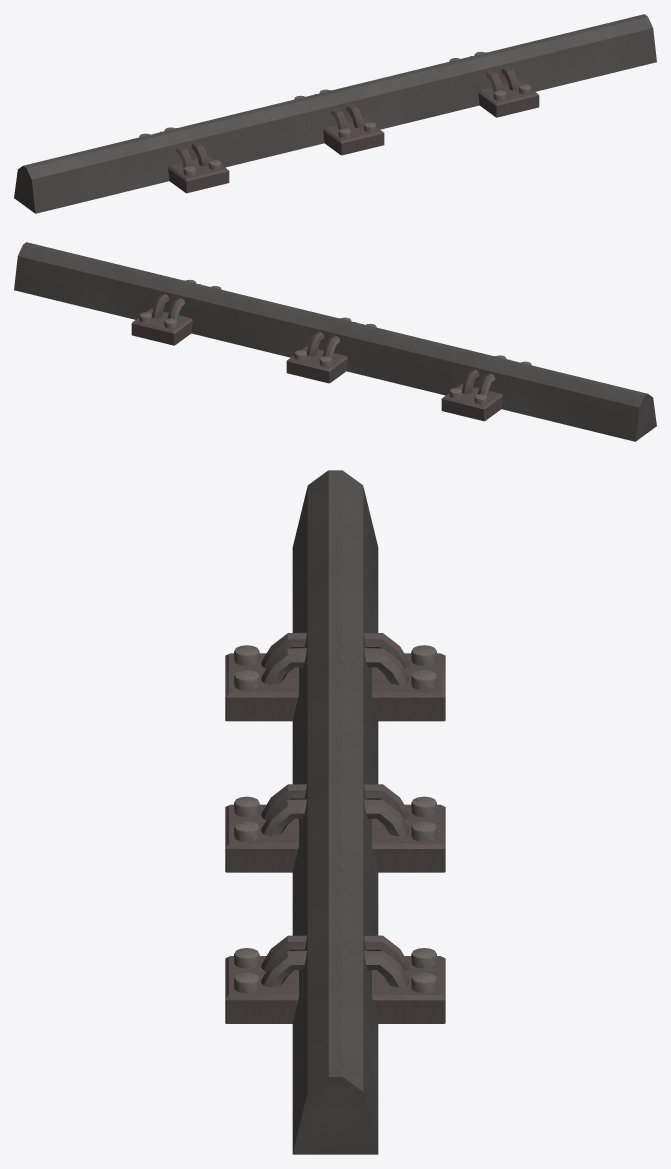
The model's file is Rails_2.fbx.
3 views of the same model, one above another, from view 1: azimuth 30°, elevation 25°; view 2: azimuth 150°, elevation 25°; view 3: azimuth 270°, elevation 25° (orthographic). The views are drawn at different scales.
Visible parts, largest first — view 1: Rails_2; view 2: Rails_2; view 3: Rails_2.
Part boxes in pixels (bbox=[...]): Rails_2: bbox=[14, 14, 656, 213]; Rails_2: bbox=[14, 242, 656, 441]; Rails_2: bbox=[225, 470, 445, 1154].
Size of the model in its own units: 4.01 by 0.24 by 0.616.
